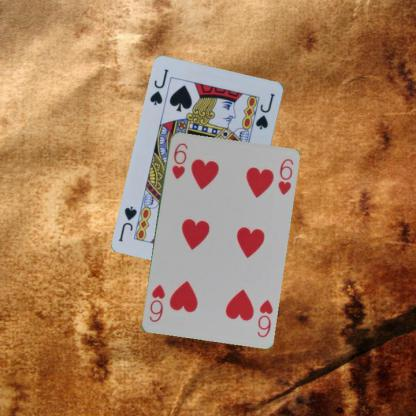6h: (254, 297, 274, 339), (169, 140, 188, 180)
Js: (147, 66, 170, 107)
